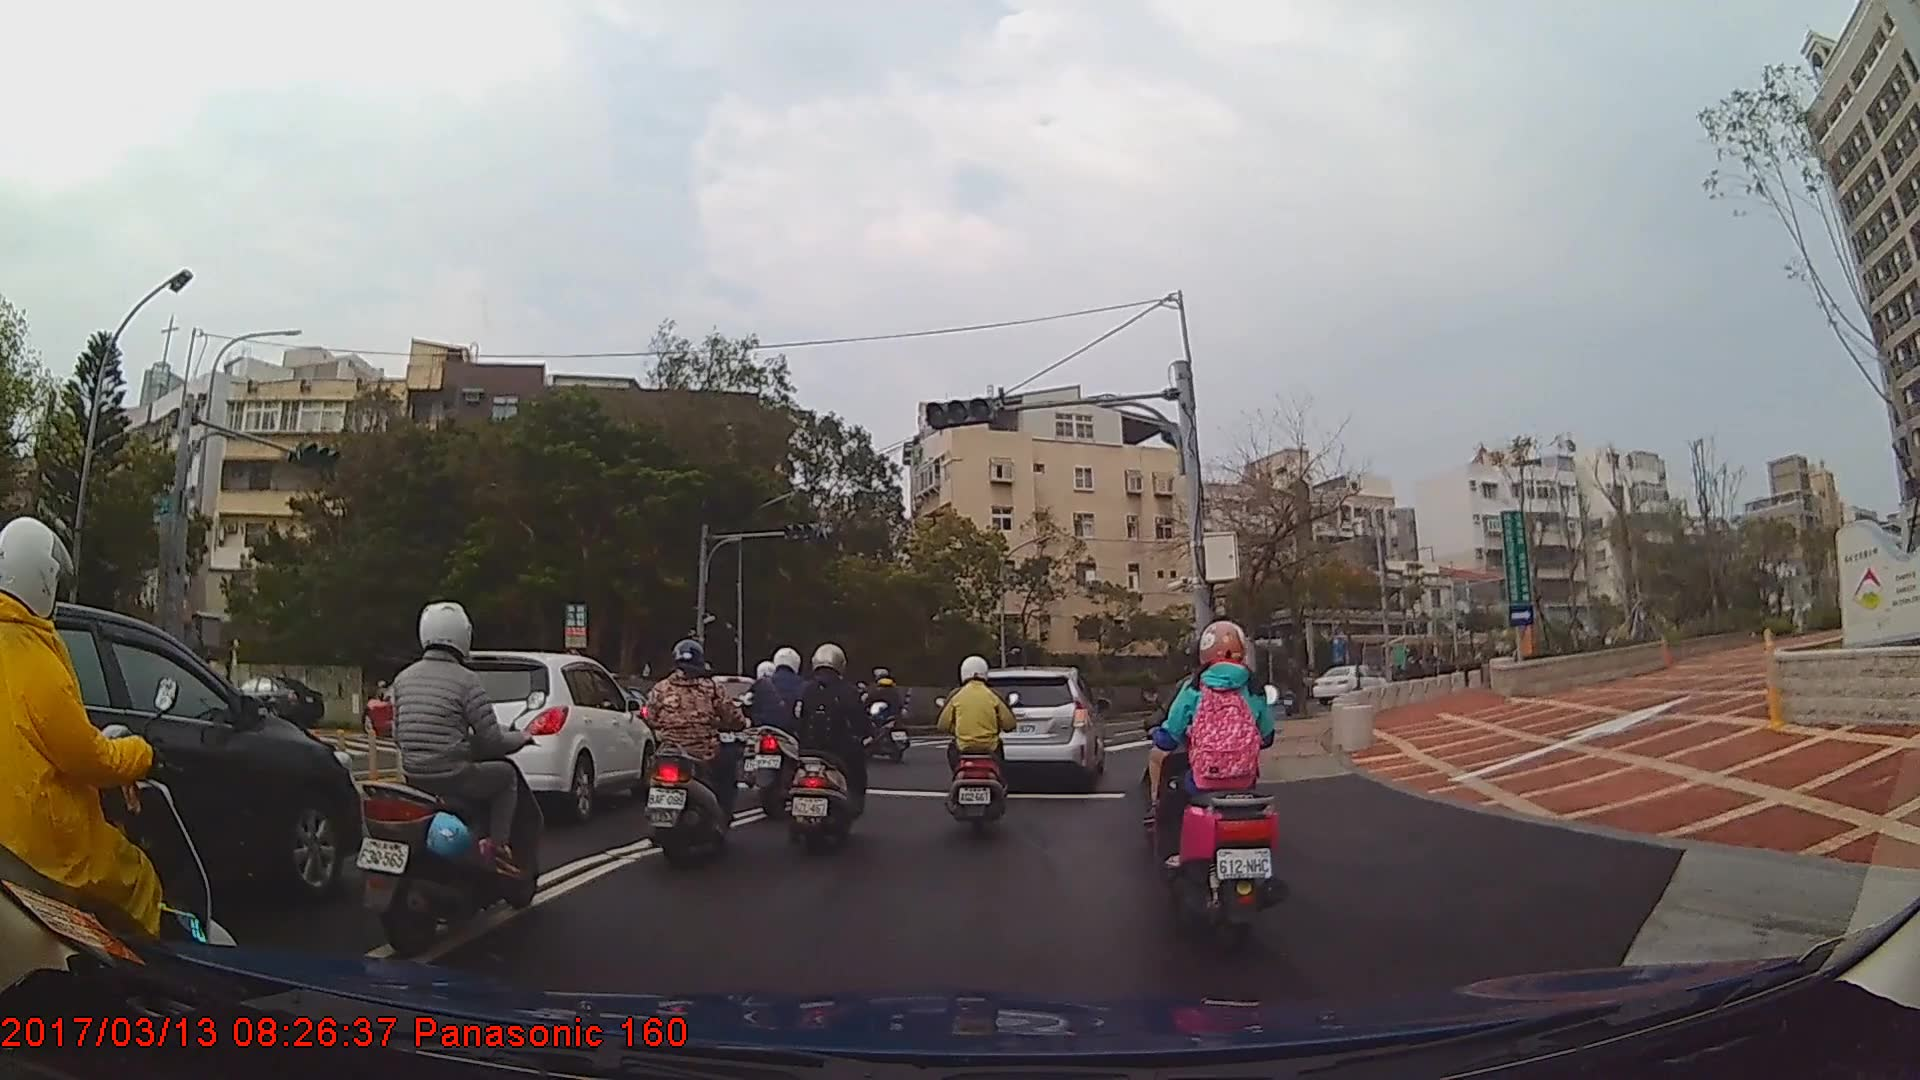rider: (1, 517, 236, 1041), (361, 601, 553, 955), (1151, 619, 1282, 928), (637, 641, 753, 874), (780, 642, 876, 857), (933, 659, 1024, 834), (747, 646, 819, 817), (738, 665, 796, 804), (851, 667, 915, 766)
vehicle: (0, 596, 361, 935), (402, 650, 656, 826), (962, 666, 1104, 789), (219, 674, 323, 731), (360, 677, 462, 733), (1313, 665, 1386, 707)
